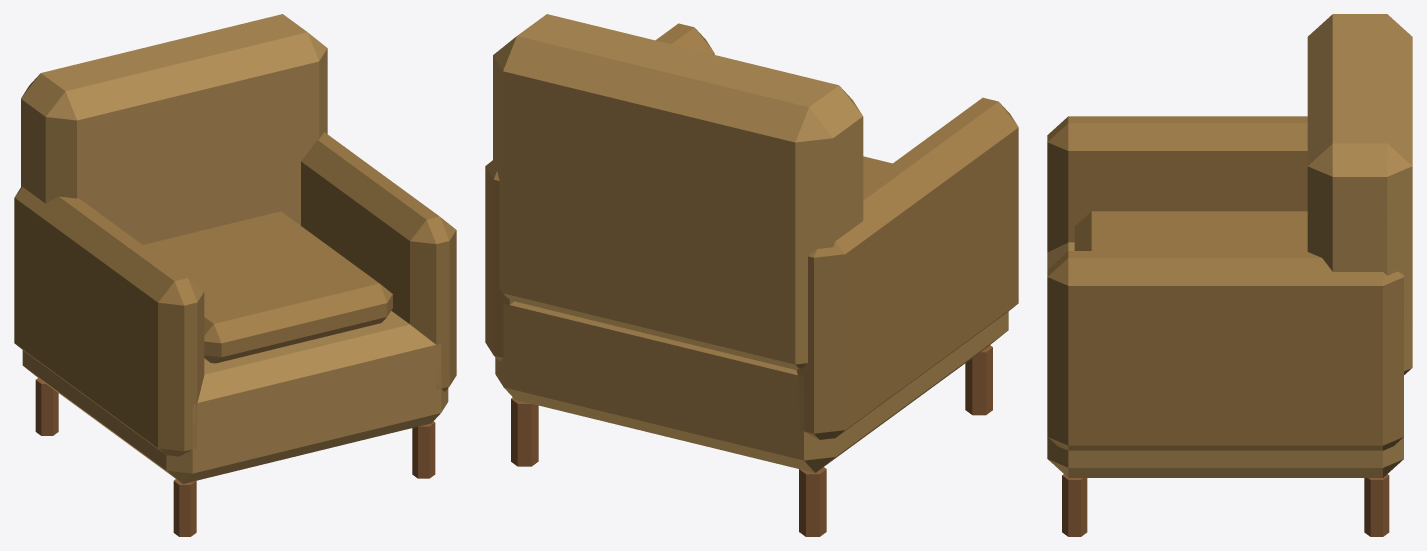
The model's file is armchair.glb.
3 renders of one model, left to right at view 1: azimuth 30°, elevation 25°; view 2: azimuth 150°, elevation 25°; view 3: azimuth 270°, elevation 25°, orthographic. The views are drawn at different scales.
Parts seen in each view (by area): view 1: armchair; view 2: armchair; view 3: armchair.
Boxes of the visible parts, x1,y1,x2,y2 form: armchair: [14, 14, 456, 536]; armchair: [485, 14, 1018, 536]; armchair: [1047, 14, 1412, 536].
Bounding box in the file's own units: 0.9 × 1.02 × 0.87.
